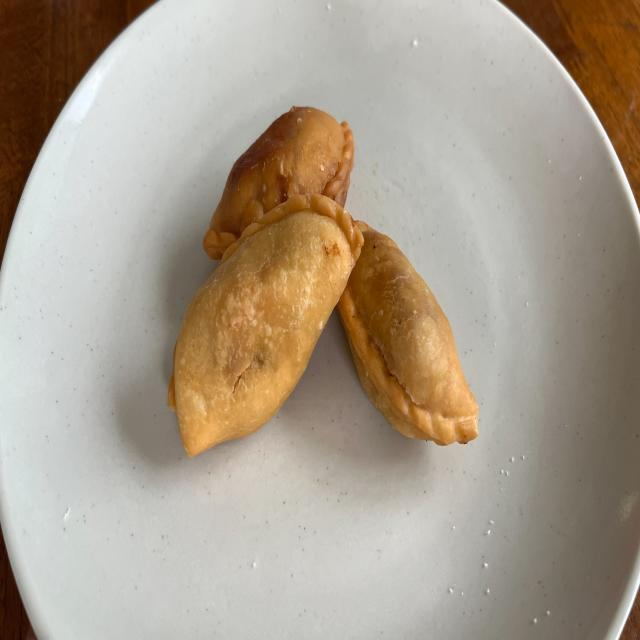karipap: (169, 193, 364, 456), (339, 222, 479, 444), (204, 107, 354, 260)
